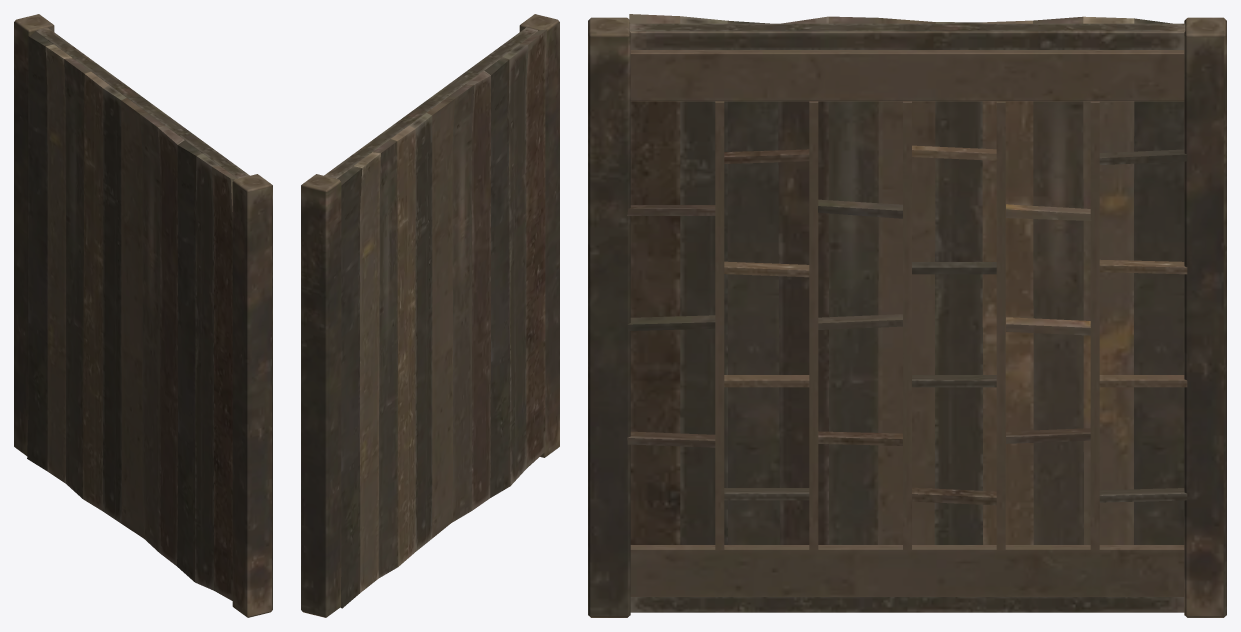
The model's file is wall.frontier.full_a.glb.
3 renders of one model, left to right at view 1: azimuth 30°, elevation 25°; view 2: azimuth 150°, elevation 25°; view 3: azimuth 270°, elevation 25°, orthographic. The views are drawn at different scales.
Visible parts, largest first — view 1: wall_a_LOD0; view 2: wall_a_LOD0; view 3: wall_a_LOD0.
Part boxes in pixels (left/top/right/bottom): wall_a_LOD0: left=14, top=14, right=272, bottom=617; wall_a_LOD0: left=301, top=14, right=559, bottom=617; wall_a_LOD0: left=588, top=14, right=1226, bottom=617.
Size of the model in its own units: 0.2116 by 3.04 by 3.
Materials: 1 (1 with a texture image).
